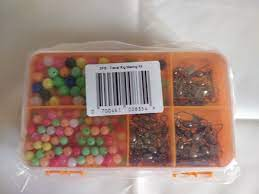Barcode: (96, 71, 152, 114)
